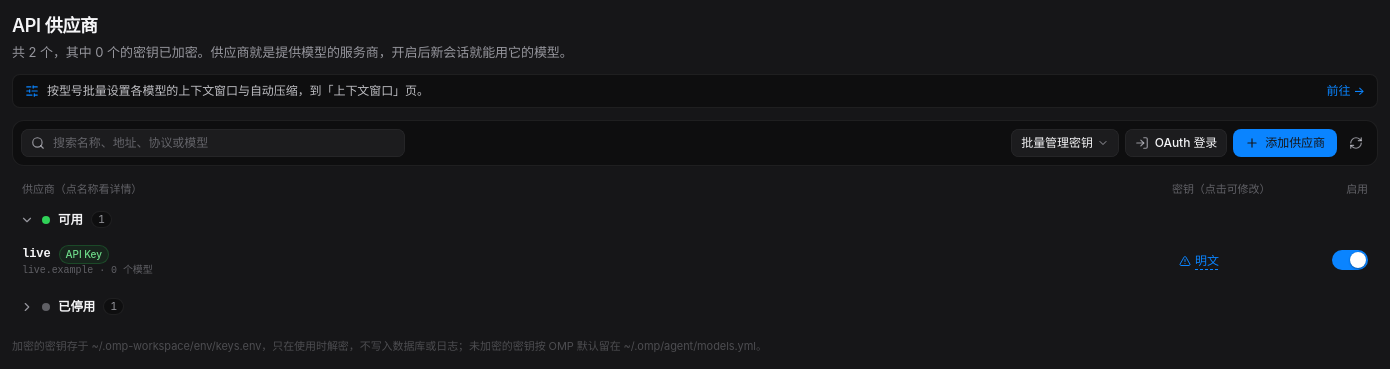
Test: status groups › search opens folded groups and shows every match
Expected: the text "供应商（点名称看详情）" is shown, [22,182,142,196]
Type "off-one" into the field named "筛选供应商" at (213, 143), box [21,129,405,157]
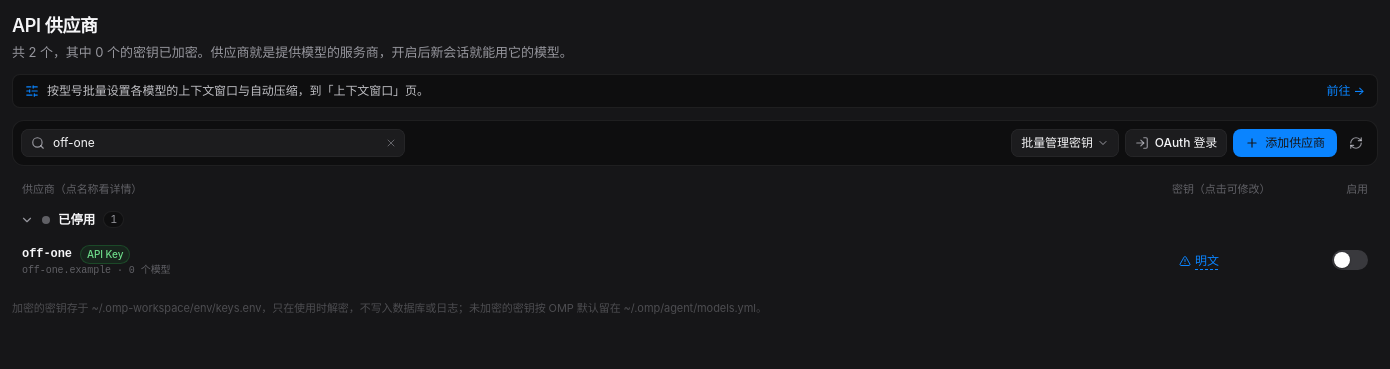
Expected: the text "off-one" is shown, [22,246,72,262]
